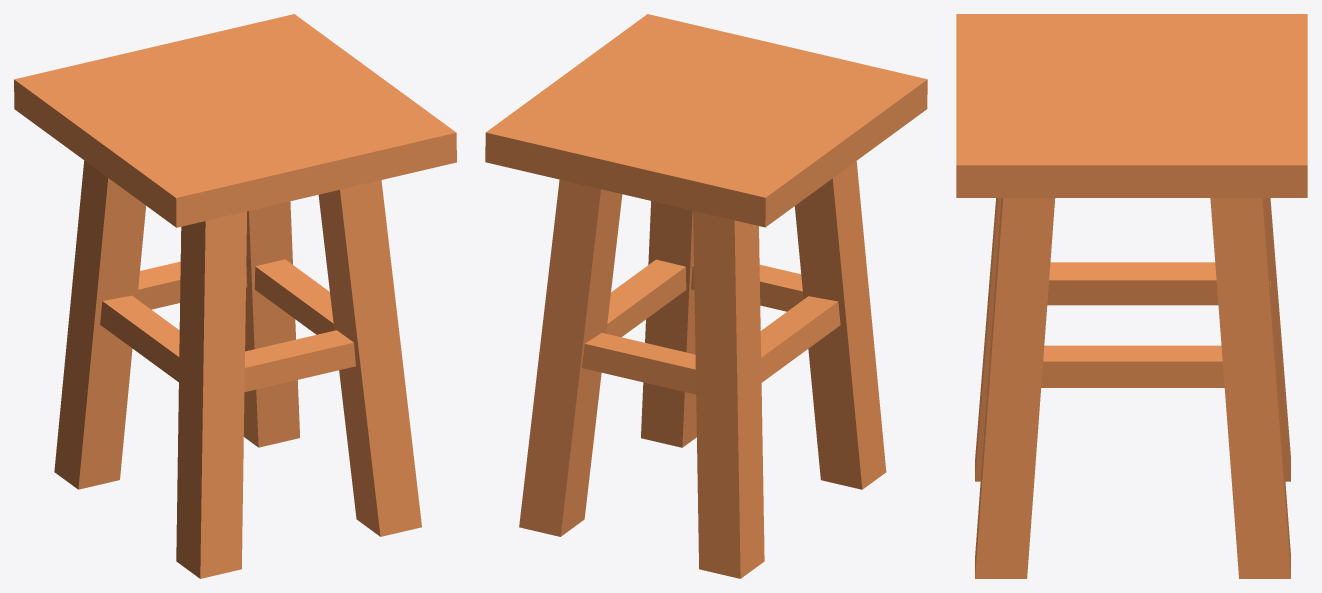
File: stool.fbx
3 views of the same model, side by side, from view 1: azimuth 30°, elevation 25°; view 2: azimuth 150°, elevation 25°; view 3: azimuth 270°, elevation 25° (orthographic). The views are drawn at different scales.
Visible parts, largest first — view 1: Cube.004; view 2: Cube.004; view 3: Cube.004.
Boxes of the visible parts, left/top/right/bottom form: Cube.004: left=14, top=14, right=456, bottom=578; Cube.004: left=485, top=14, right=927, bottom=578; Cube.004: left=956, top=14, right=1307, bottom=578.
Bounding box in the file's own units: 74.3 × 101 × 74.3.
